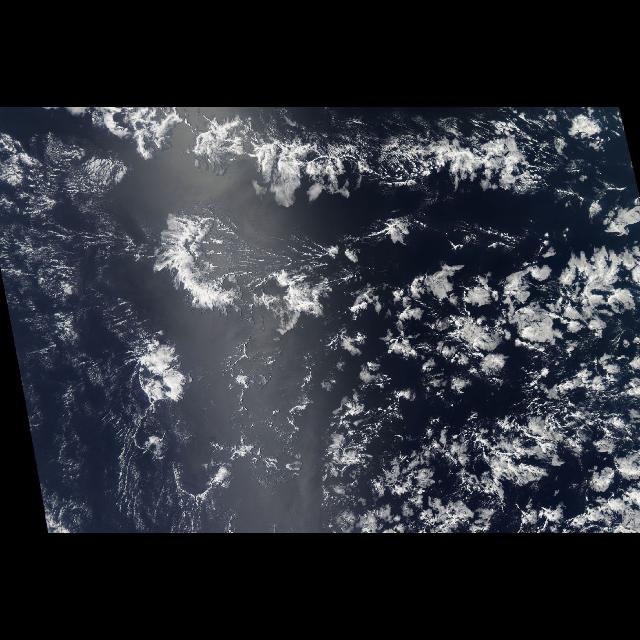Fish: (48, 108, 590, 326)
Flower: (387, 262, 637, 522)
